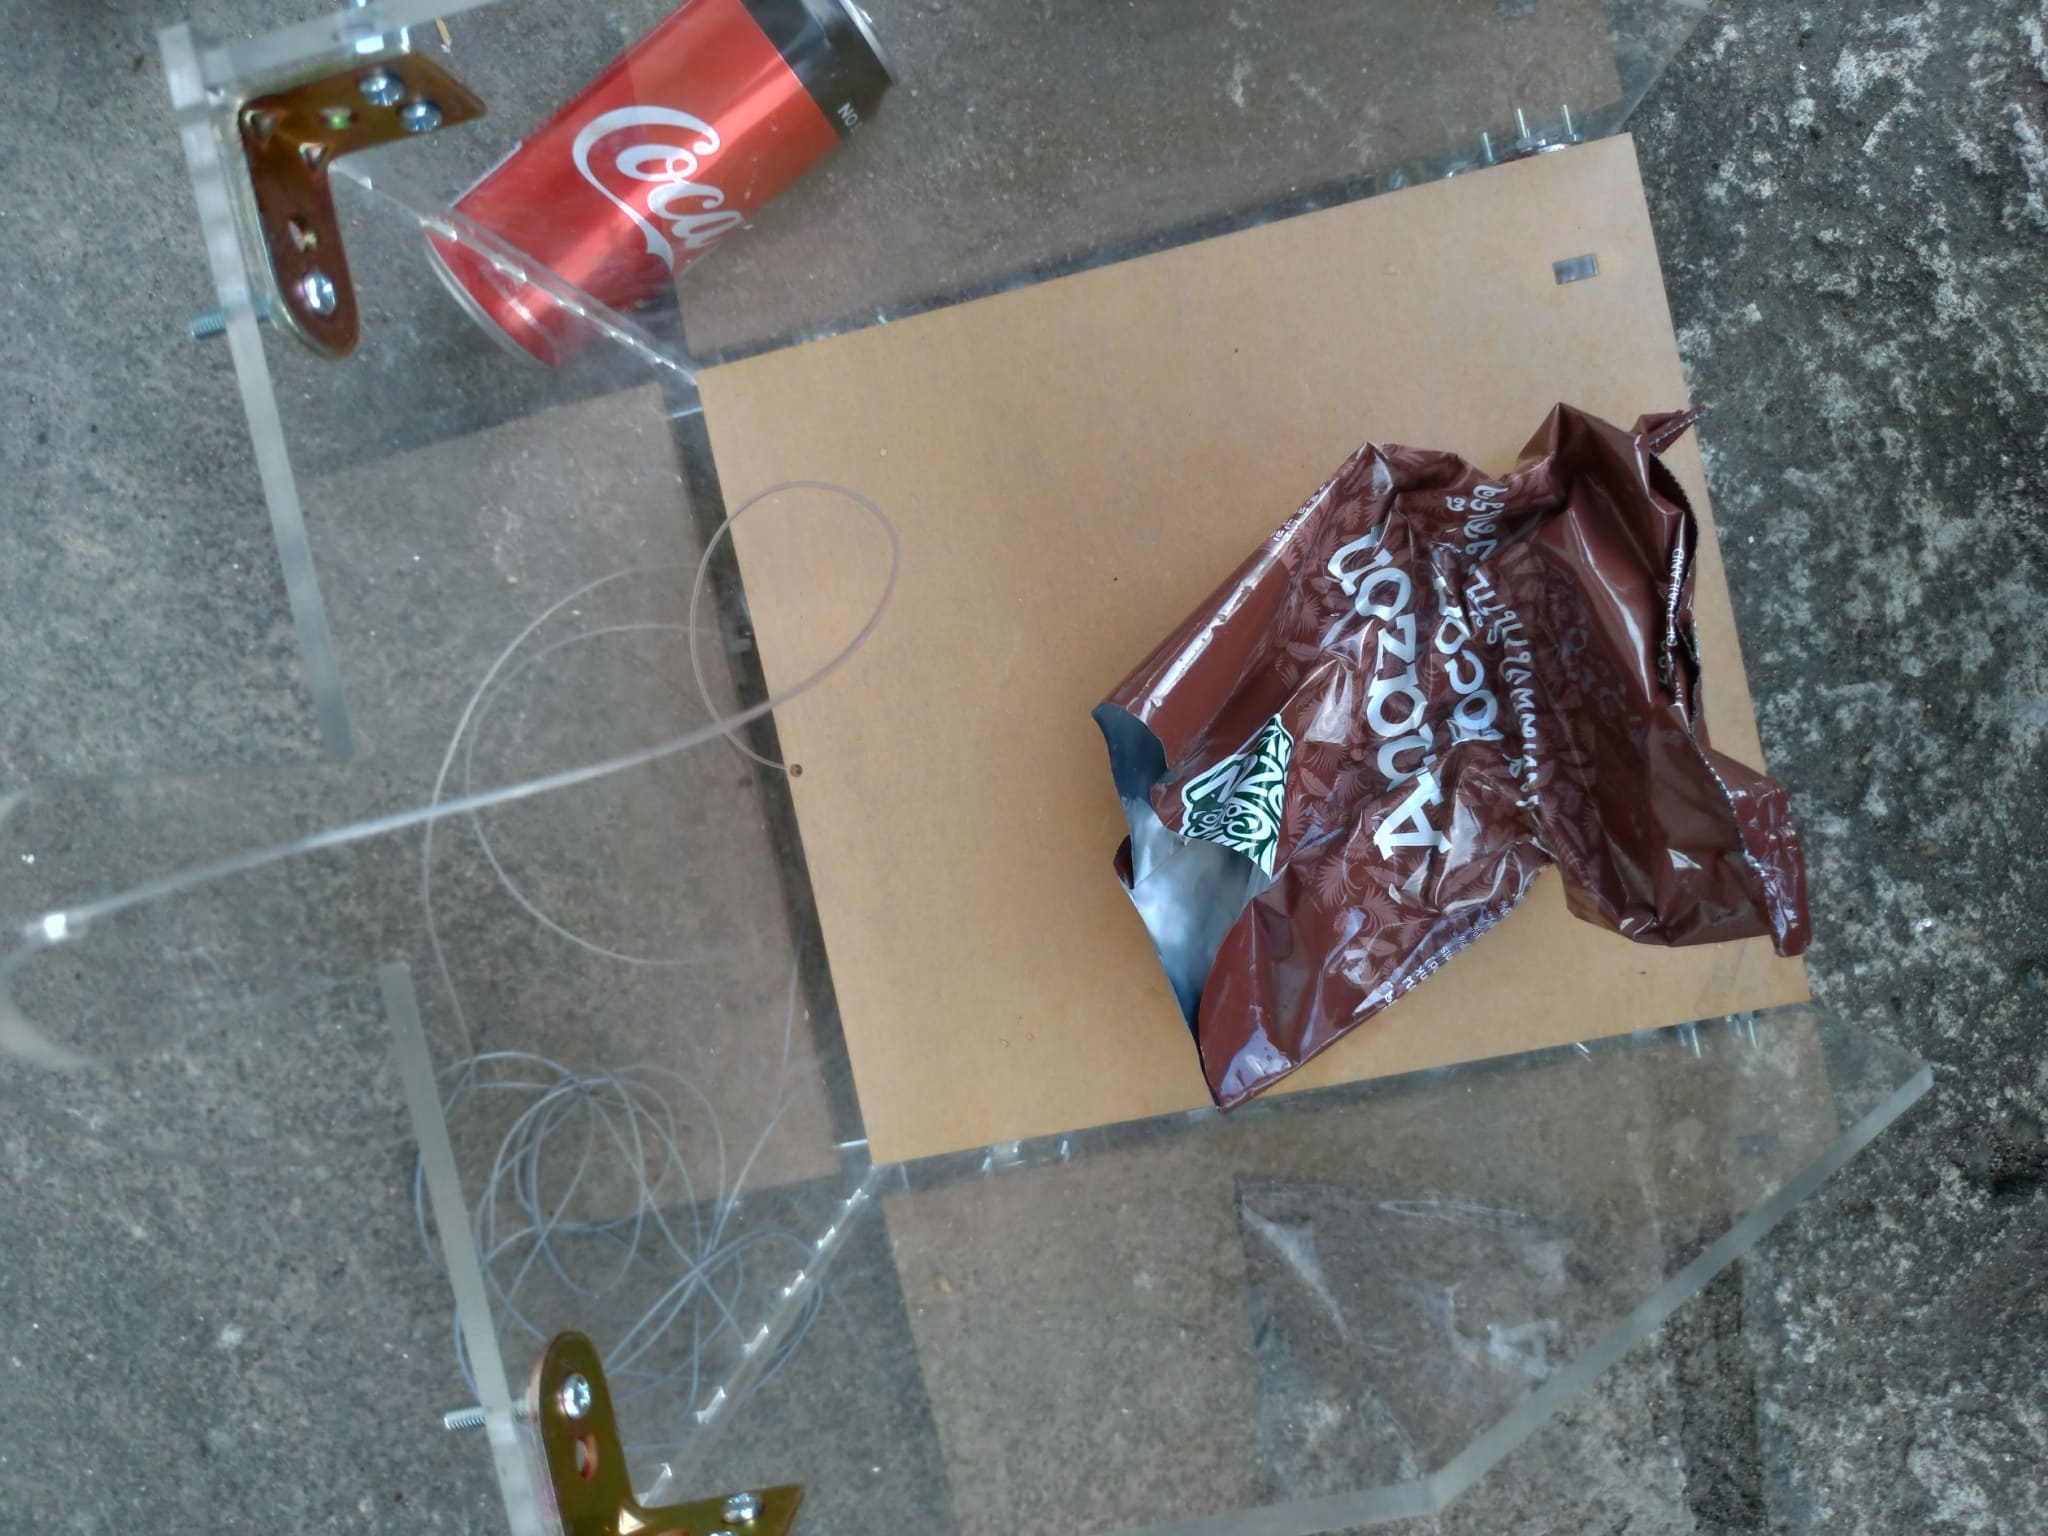AlCan: (416, 2, 900, 369)
Others: (1100, 394, 1809, 1112)
